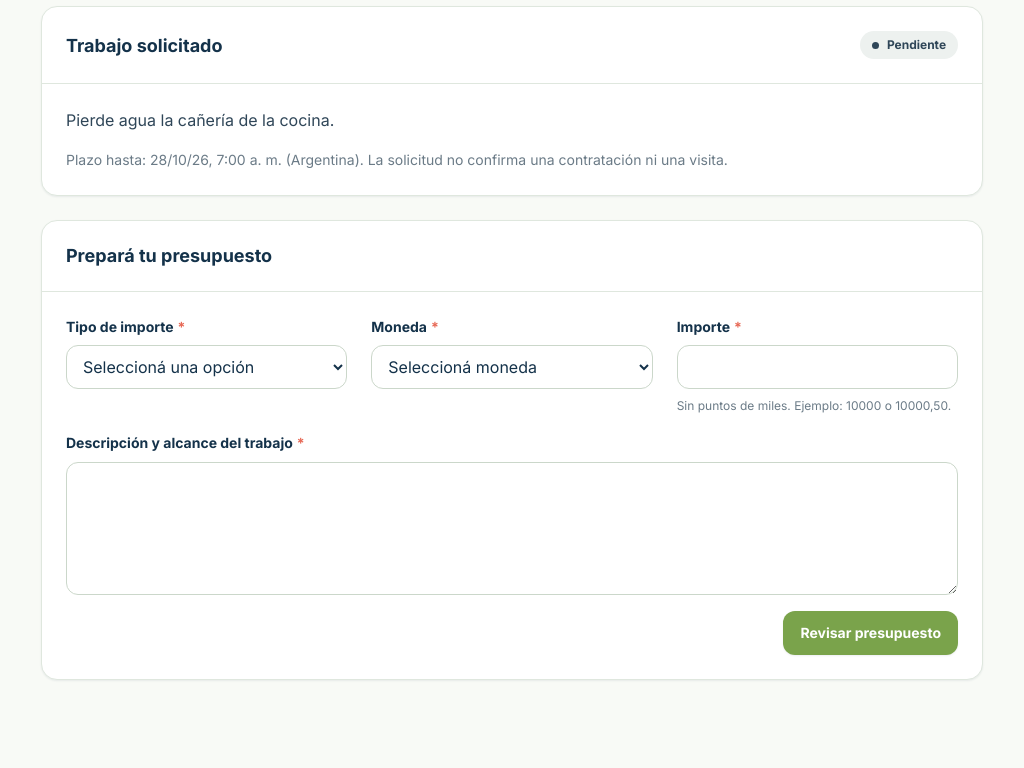
Test: formulario del proveedor › señala campos inválidos sin enviar
(page scrolled)
Click the button "Revisar presupuesto".
click(871, 633)  # box [783,611,958,655]
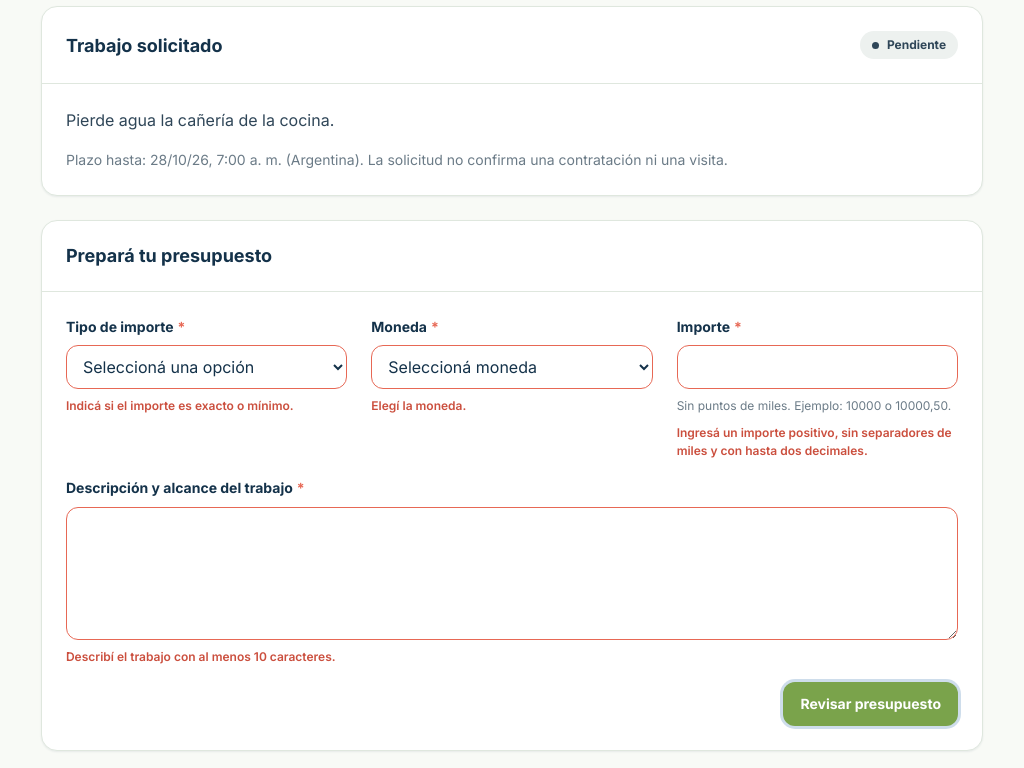
Expected: the number of messages is 4, [66,398,294,413]; [371,398,466,413]; [677,424,958,461]; [66,649,336,664]
